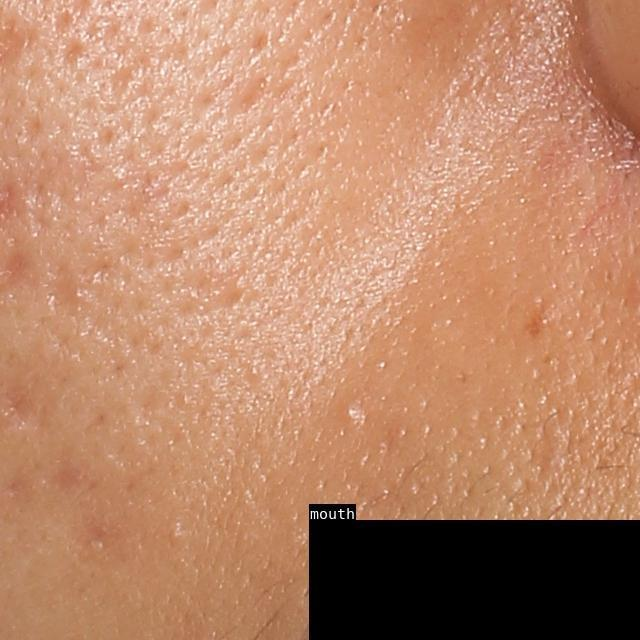atrophic_scar: (44, 260, 84, 319), (229, 72, 276, 118), (2, 388, 39, 430), (60, 40, 85, 77)
comedo: (338, 400, 367, 426)
